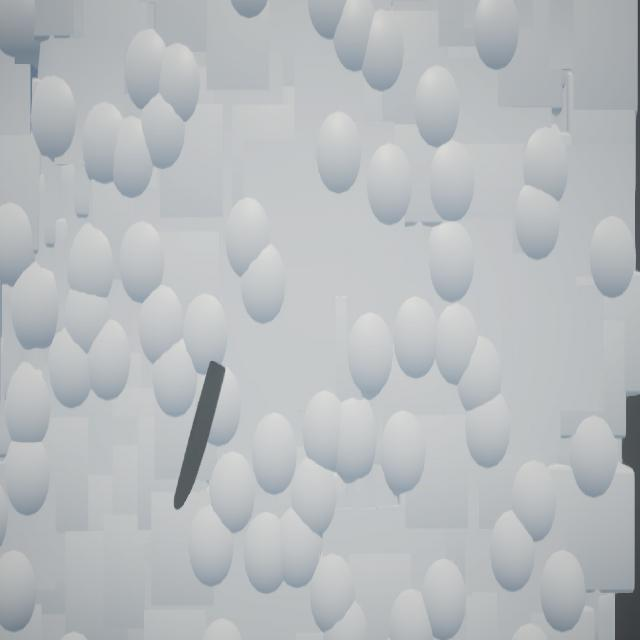top_knife: (174, 361, 227, 512)
